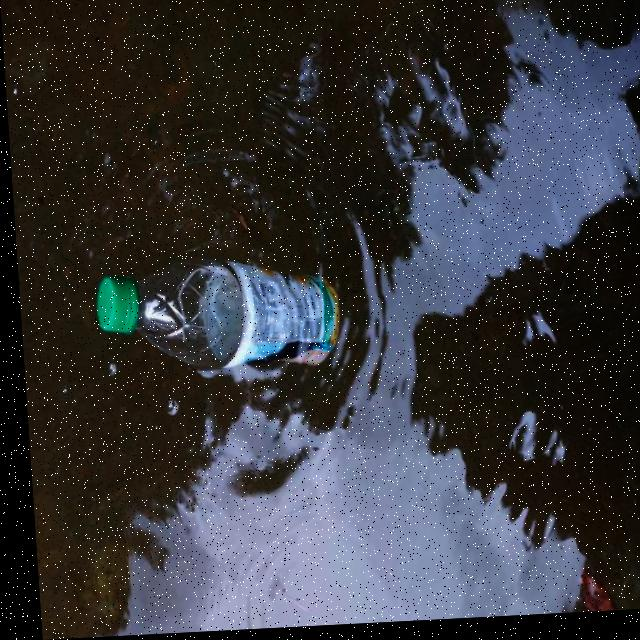leaf: (538, 558, 640, 619)
waterbottle: (77, 228, 377, 441)
